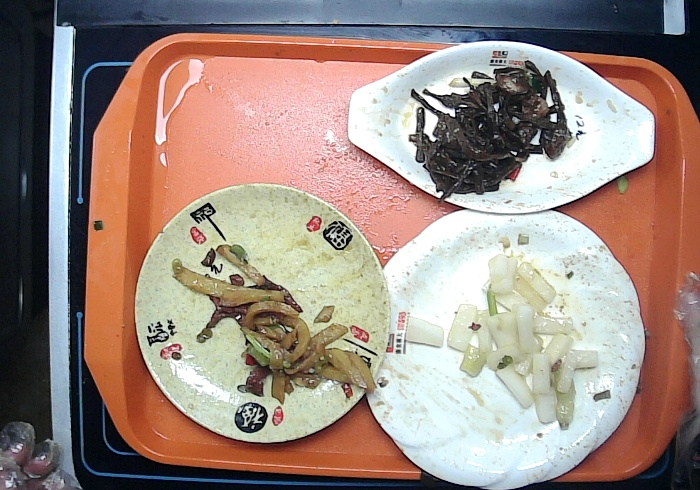NLDX-Bai_Zhe_Yuan_Pan: (353, 198, 656, 490)
NLDX-Fu_Zi_Yuan_Pan: (130, 171, 397, 451)
NLDX-Yu_Pan: (338, 36, 658, 216)
